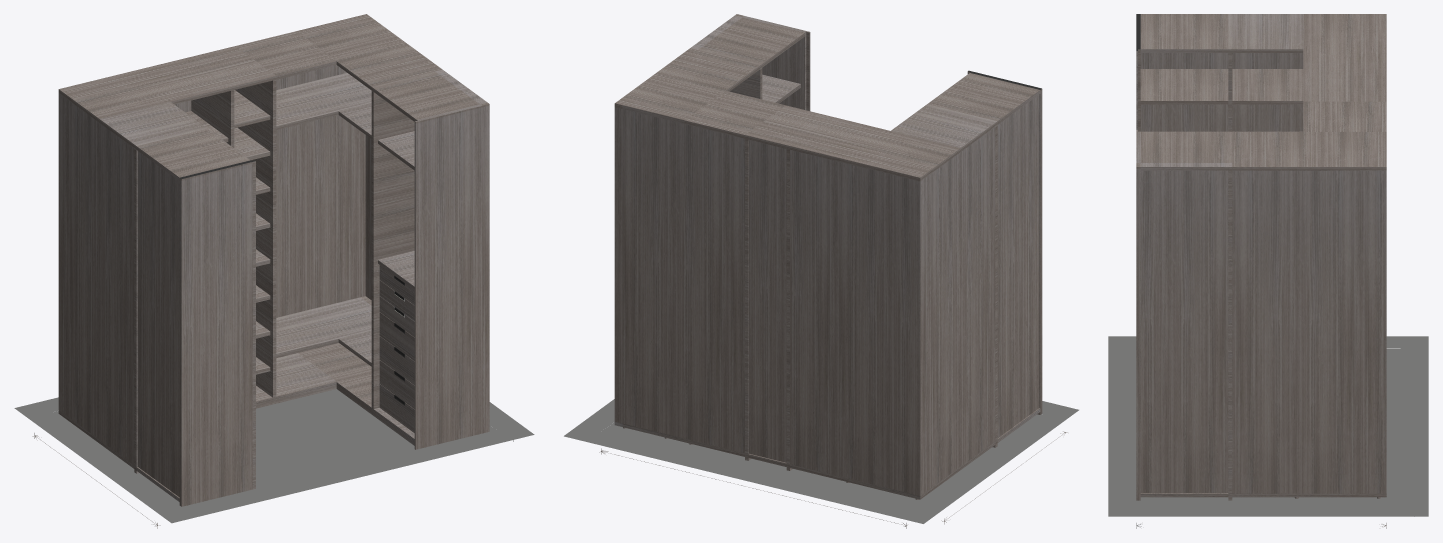
Rendered from C1-D3-PC-Drawers-SC.obj.
3 renders of one model, left to right at view 1: azimuth 30°, elevation 25°; view 2: azimuth 150°, elevation 25°; view 3: azimuth 270°, elevation 25°, orthographic. The views are drawn at different scales.
Visible parts, largest first — view 1: Mesh4 C1_D3_PC_DXF1 Model, Mesh26 C1_D3_PC_DXF1 Model, Mesh71 C1_D3_PC_DXF1 Model, Mesh7 C1_D3_PC_DXF1 Model, Mesh109 C1_D3_PC_DXF1 Model, Mesh110 C1_D3_PC_DXF1 Model, Mesh64 C1_D3_PC_DXF1 Model, Mesh87 C1_D3_PC_DXF1 Model, Mesh78 C1_D3_PC_DXF1 Model, Mesh77 C1_D3_PC_DXF1 Model, Mesh86 C1_D3_PC_DXF1 Model, Mesh108 C1_D3_PC_DXF1 Model (+3 smaller); view 2: Mesh26 C1_D3_PC_DXF1 Model, Mesh71 C1_D3_PC_DXF1 Model, Mesh4 C1_D3_PC_DXF1 Model, Mesh7 C1_D3_PC_DXF1 Model, Mesh53 C1_D3_PC_DXF1 Model, Mesh110 C1_D3_PC_DXF1 Model, Mesh109 C1_D3_PC_DXF1 Model, Mesh19 C1_D3_PC_DXF1 Model, Mesh98 C1_D3_PC_DXF1 Model; view 3: Mesh71 C1_D3_PC_DXF1 Model, Mesh4 C1_D3_PC_DXF1 Model, Mesh97 C1_D3_PC_DXF1 Model, Mesh110 C1_D3_PC_DXF1 Model, Mesh109 C1_D3_PC_DXF1 Model, Mesh7 C1_D3_PC_DXF1 Model, Mesh11 C1_D3_PC_DXF1 Model, Mesh26 C1_D3_PC_DXF1 Model, Mesh32 C1_D3_PC_DXF1 Model, Mesh64 C1_D3_PC_DXF1 Model.
Boxes of the visible parts, x1=… form: Mesh4 C1_D3_PC_DXF1 Model: x1=58, y1=14, x2=489, y2=506; Mesh26 C1_D3_PC_DXF1 Model: x1=58, y1=93, x2=191, y2=464; Mesh71 C1_D3_PC_DXF1 Model: x1=276, y1=65, x2=371, y2=357; Mesh7 C1_D3_PC_DXF1 Model: x1=137, y1=151, x2=179, y2=496; Mesh109 C1_D3_PC_DXF1 Model: x1=52, y1=389, x2=496, y2=507; Mesh110 C1_D3_PC_DXF1 Model: x1=14, y1=397, x2=534, y2=523; Mesh64 C1_D3_PC_DXF1 Model: x1=276, y1=343, x2=371, y2=406; Mesh87 C1_D3_PC_DXF1 Model: x1=302, y1=296, x2=371, y2=366; Mesh78 C1_D3_PC_DXF1 Model: x1=302, y1=73, x2=371, y2=138; Mesh77 C1_D3_PC_DXF1 Model: x1=276, y1=84, x2=338, y2=129; Mesh86 C1_D3_PC_DXF1 Model: x1=276, y1=312, x2=338, y2=357; Mesh108 C1_D3_PC_DXF1 Model: x1=256, y1=382, x2=414, y2=445; Mesh26 C1_D3_PC_DXF1 Model: x1=790, y1=127, x2=995, y2=495; Mesh71 C1_D3_PC_DXF1 Model: x1=614, y1=107, x2=744, y2=453; Mesh4 C1_D3_PC_DXF1 Model: x1=614, y1=14, x2=1042, y2=470; Mesh7 C1_D3_PC_DXF1 Model: x1=997, y1=95, x2=1039, y2=437; Mesh53 C1_D3_PC_DXF1 Model: x1=749, y1=140, x2=786, y2=462; Mesh110 C1_D3_PC_DXF1 Model: x1=564, y1=399, x2=1078, y2=523; Mesh109 C1_D3_PC_DXF1 Model: x1=601, y1=414, x2=1041, y2=508; Mesh19 C1_D3_PC_DXF1 Model: x1=790, y1=441, x2=995, y2=499; Mesh98 C1_D3_PC_DXF1 Model: x1=762, y1=74, x2=800, y2=103; Mesh71 C1_D3_PC_DXF1 Model: x1=1232, y1=170, x2=1386, y2=493; Mesh4 C1_D3_PC_DXF1 Model: x1=1136, y1=14, x2=1386, y2=500; Mesh97 C1_D3_PC_DXF1 Model: x1=1140, y1=170, x2=1228, y2=492; Mesh110 C1_D3_PC_DXF1 Model: x1=1108, y1=336, x2=1428, y2=516; Mesh109 C1_D3_PC_DXF1 Model: x1=1136, y1=348, x2=1400, y2=504; Mesh7 C1_D3_PC_DXF1 Model: x1=1140, y1=53, x2=1228, y2=131; Mesh11 C1_D3_PC_DXF1 Model: x1=1140, y1=69, x2=1228, y2=104; Mesh26 C1_D3_PC_DXF1 Model: x1=1232, y1=53, x2=1303, y2=131; Mesh32 C1_D3_PC_DXF1 Model: x1=1232, y1=69, x2=1303, y2=104; Mesh64 C1_D3_PC_DXF1 Model: x1=1232, y1=493, x2=1386, y2=497.
Bounding box in the file's own units: 121 × 109 × 90.
7 materials, 1 textured.
